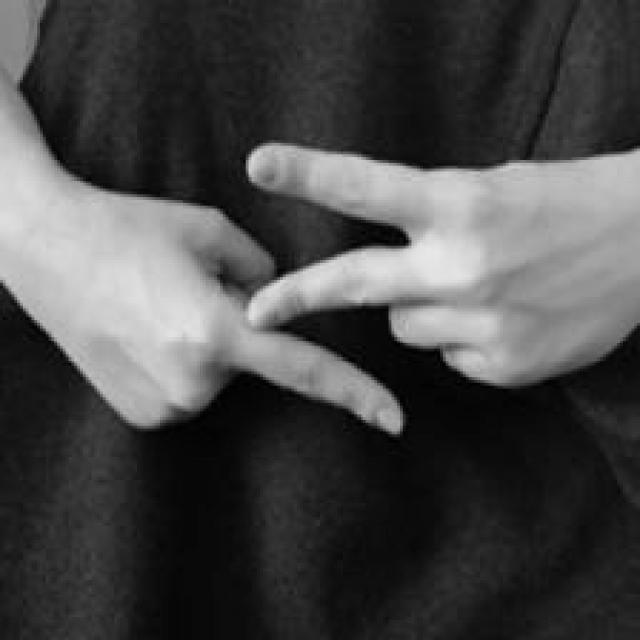Z: (3, 137, 640, 441)
